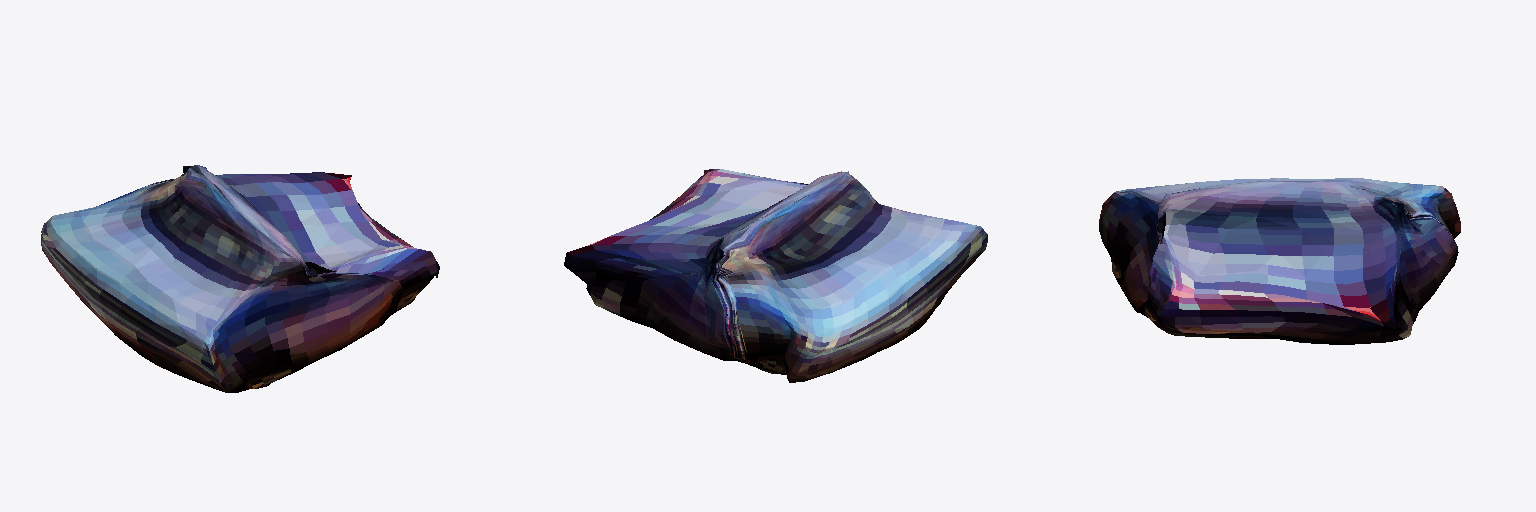
The picture shows the model from 3 angles: view 1: azimuth 30°, elevation 25°; view 2: azimuth 150°, elevation 25°; view 3: azimuth 270°, elevation 25°; orthographic projection.
Size of the model in its own units: 0.9487 by 0.3898 by 1.
1 materials, 1 textured.